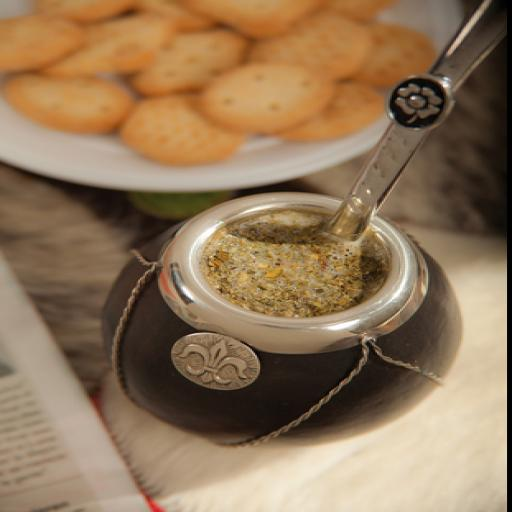mate: (103, 181, 460, 446)
